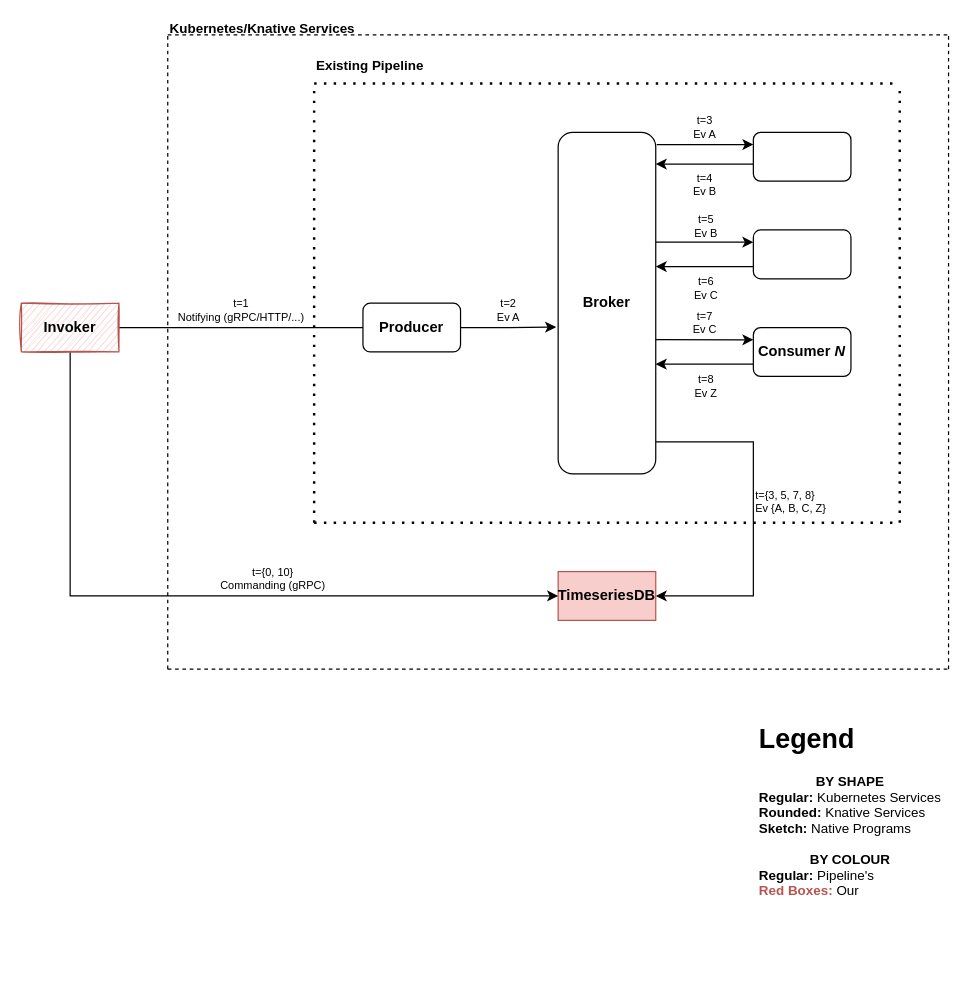
Image size: 971x983. Some labels were removed from this diagram. The shapes that lost their labels are listed below. From the top down, each one's centre as x and y in pixels, then its label:
point (801, 156): Consumer 1
point (801, 254): Consumer 2
